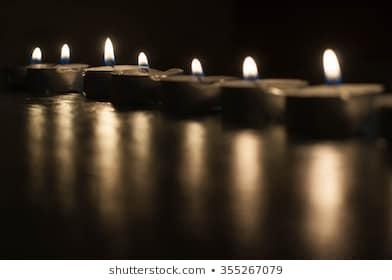fire: (318, 44, 343, 82), (100, 34, 116, 64)
